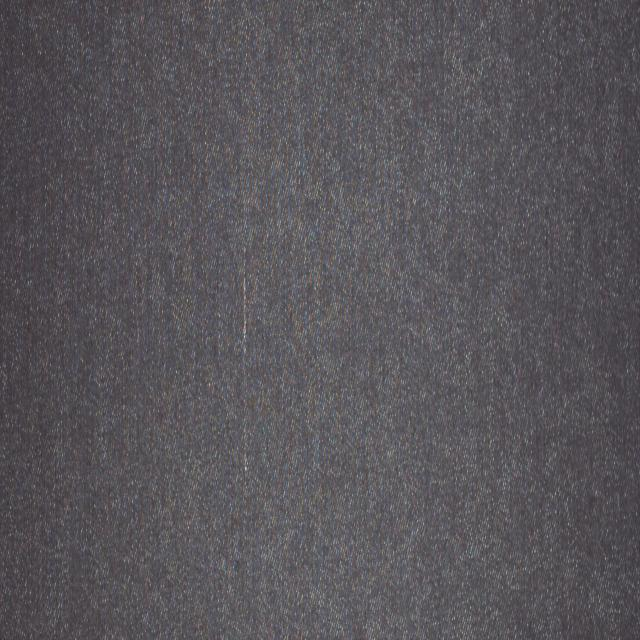pulled_or_thick_thread: (241, 246, 248, 480)
